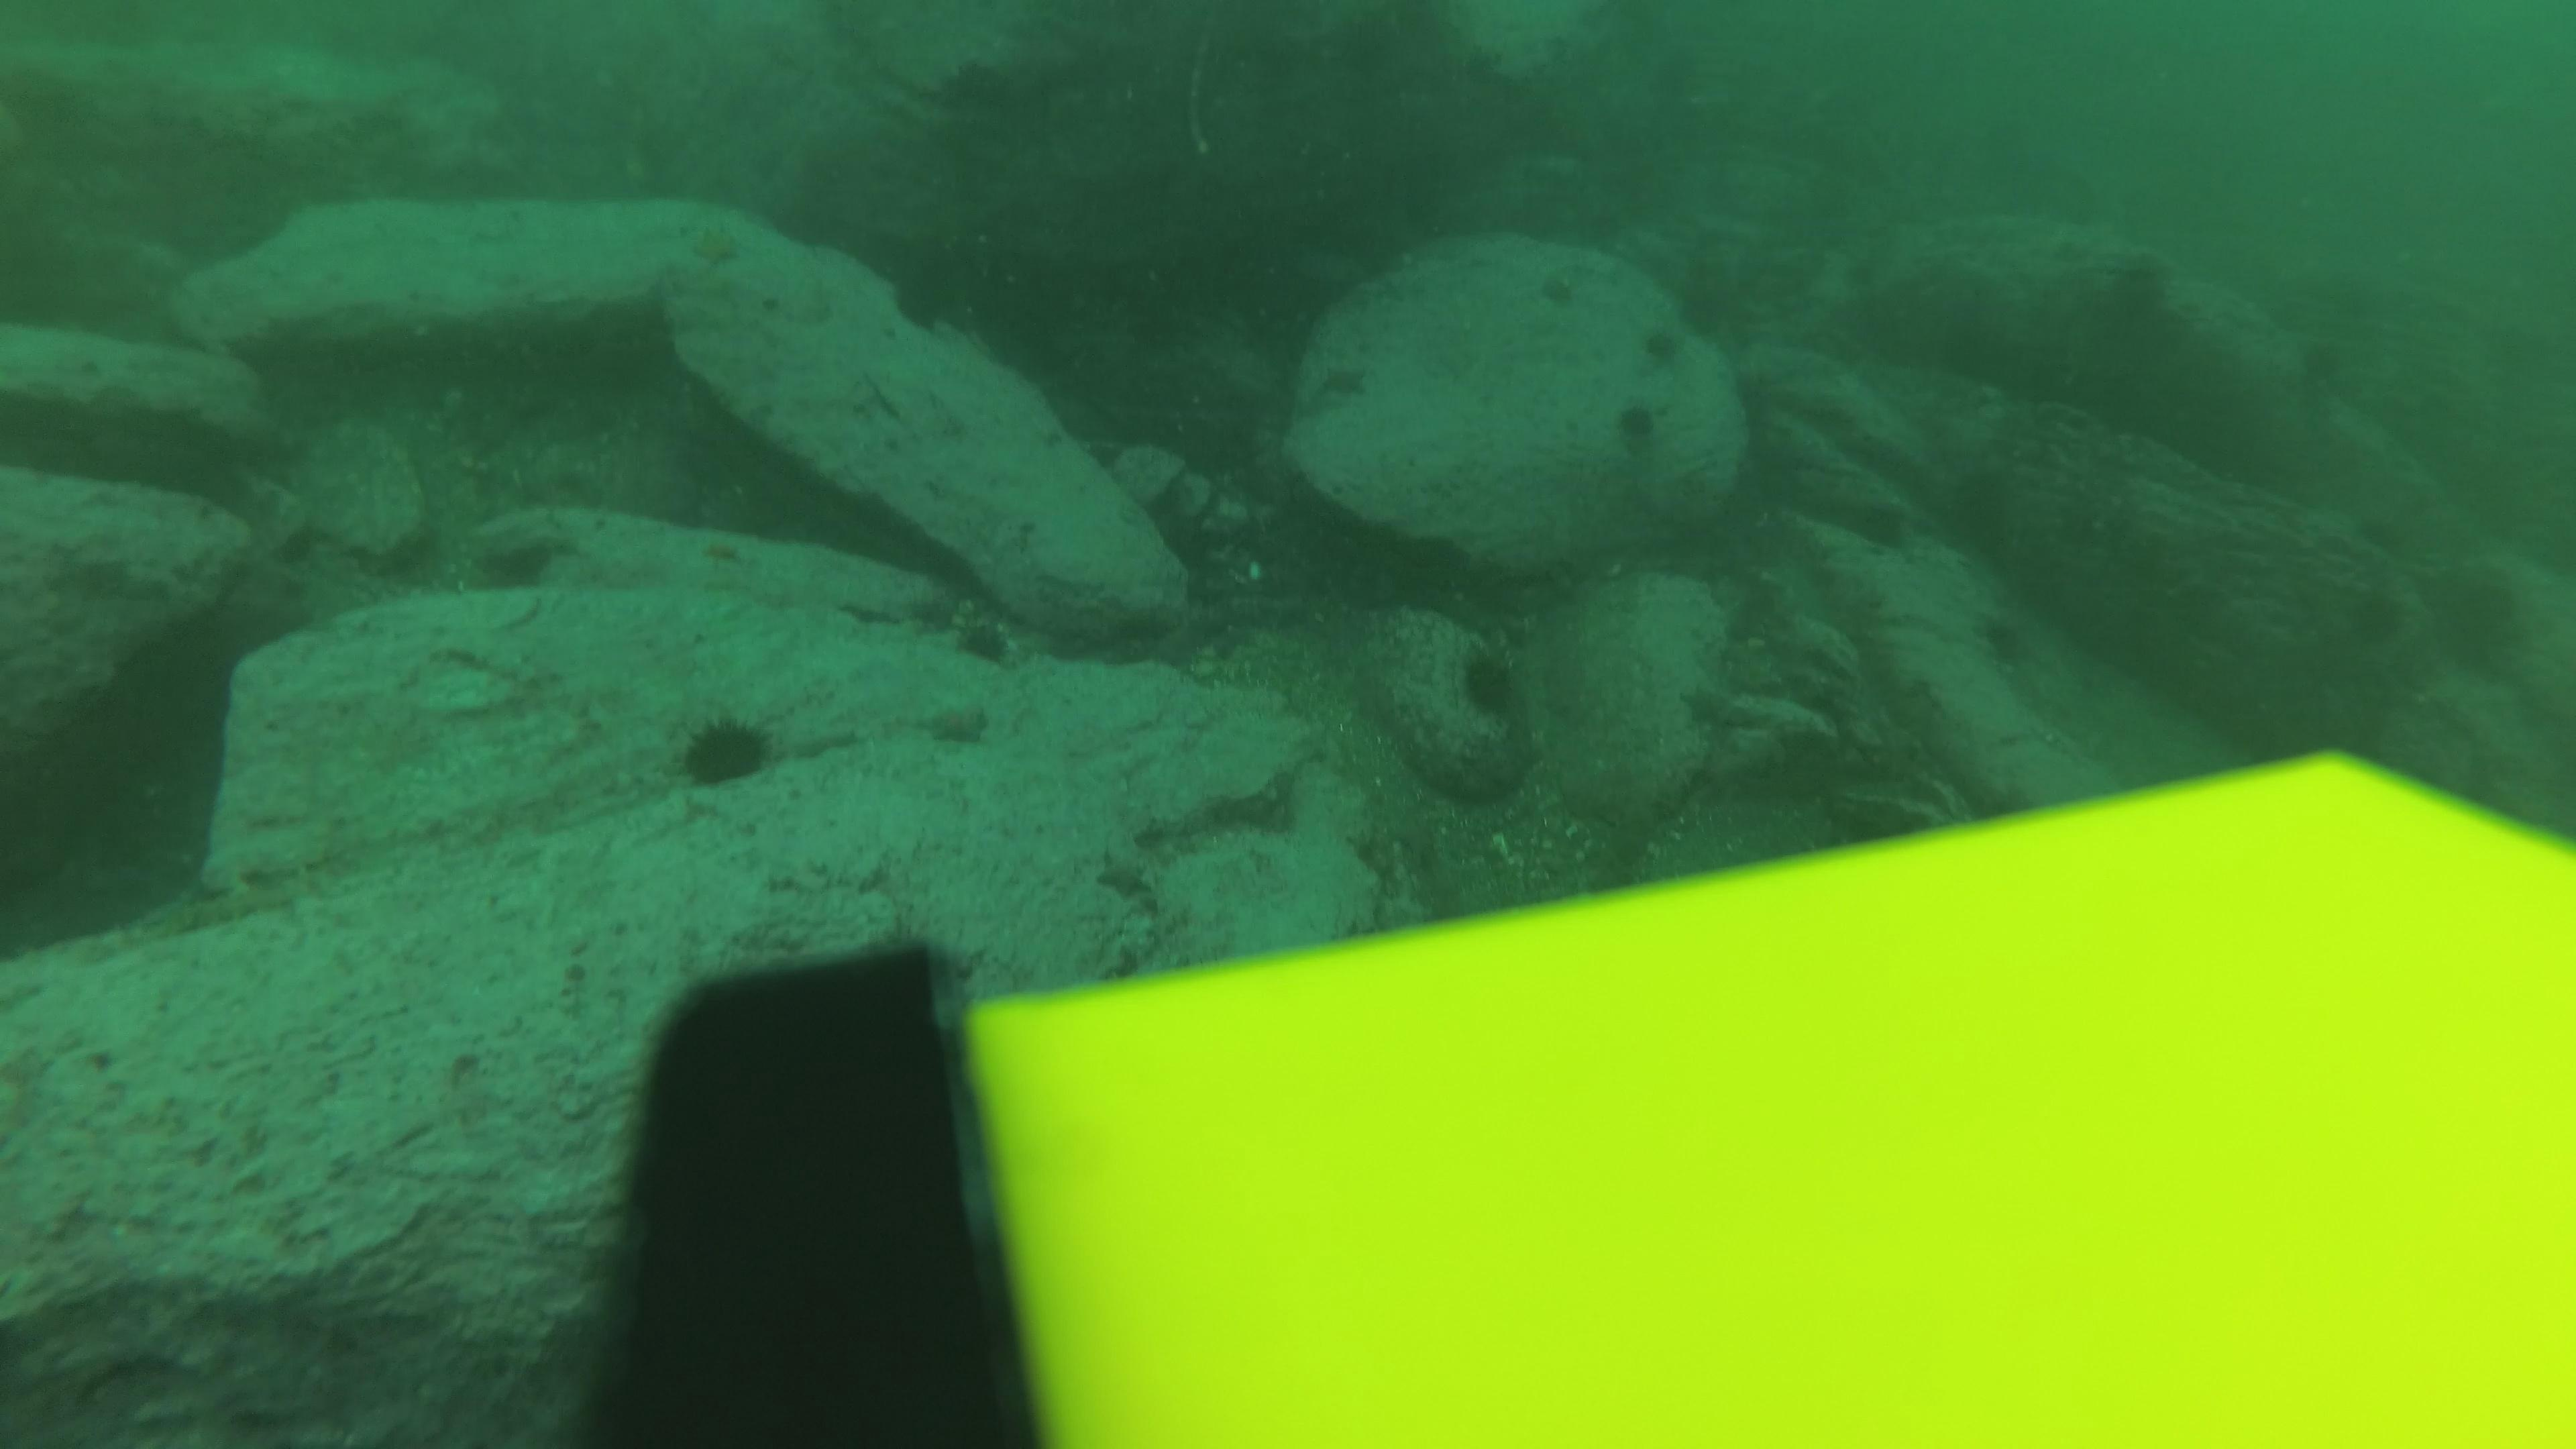echinus: (667, 704, 786, 796), (1449, 639, 1534, 724), (941, 602, 1023, 672), (1608, 396, 1667, 455), (1973, 609, 2031, 667), (2289, 333, 2348, 391), (2346, 587, 2404, 646), (1635, 320, 1688, 375)
starfish: (920, 690, 996, 745), (1092, 851, 1162, 908), (683, 221, 747, 271), (1309, 357, 1375, 405), (1679, 683, 1727, 727)
